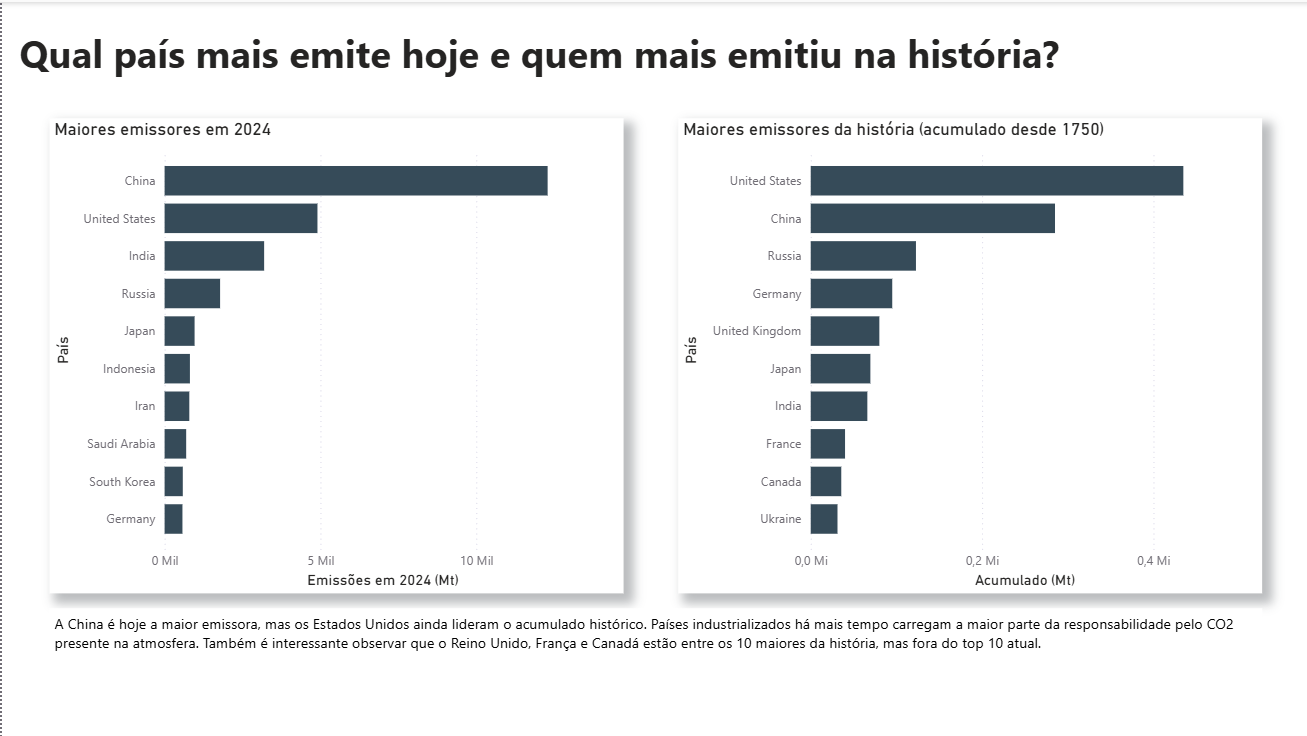

The page's visual inventory and layout, read from the dashboard file:
{"tool":"powerbi","page":{"name":"Ranking","canvas":[1280,720],"ordinal":1},"visuals":[{"type":"clusteredBarChart","title":"Maiores emissores em 2024","fields":{"Category":["dPais.country"],"Y":["Emissoes.Emissoes Total"]},"box":[46.2,113.9,561.7,464.7],"z":0},{"type":"clusteredBarChart","title":"Maiores emissores da história (acumulado desde 1750)","fields":{"Category":["dPais.country"],"Y":["Emissoes.Acumulado Historico"]},"box":[661.7,113.9,570.9,464.7],"z":1000},{"type":"textbox","box":[12.3,20,1192.6,81.6],"z":2000},{"type":"textbox","box":[46.5,593.1,1186.1,78.3],"z":3000}]}

Visuals, with their boxes in screenshot pixels (x1, y1, x2, y2), scaled from the page's 1280x720 canvas onto the 1307x736 screenshot:
"Maiores emissores em 2024" clusteredBarChart: [left=47, top=116, right=621, bottom=591]
"Maiores emissores da história (acumulado desde 1750)" clusteredBarChart: [left=676, top=116, right=1259, bottom=591]
textbox: [left=13, top=20, right=1230, bottom=104]
textbox: [left=47, top=606, right=1259, bottom=686]
